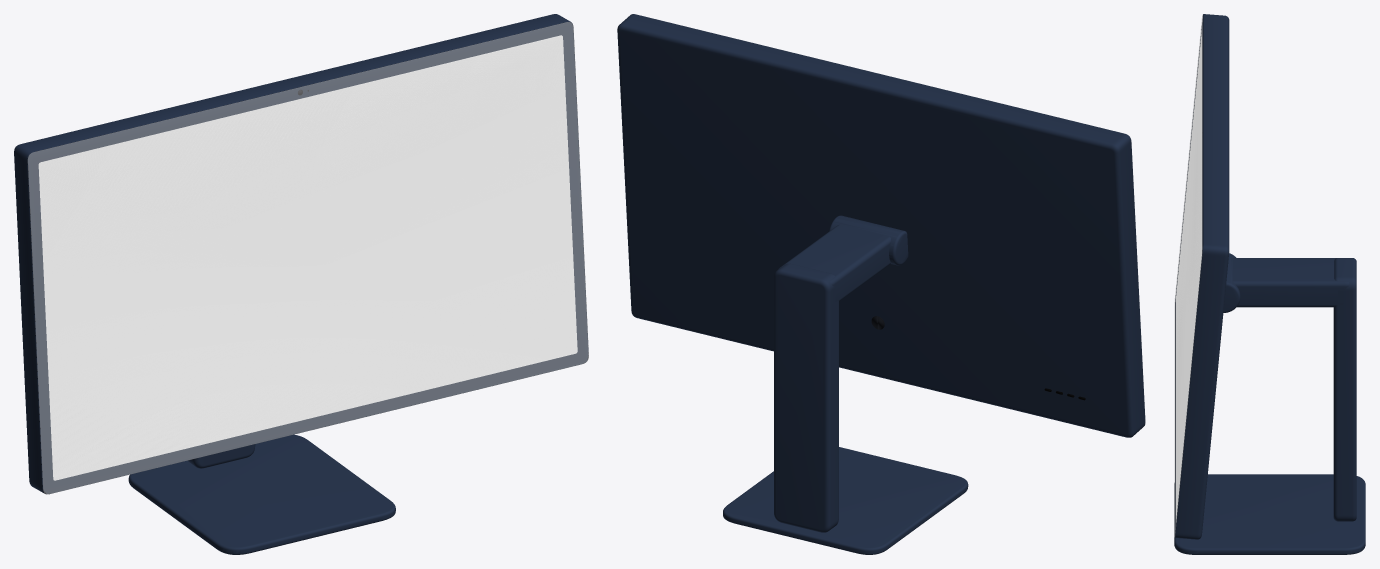
Rendered from studio-display.glb.
The picture shows the model from 3 angles, left to right: view 1: azimuth 30°, elevation 25°; view 2: azimuth 150°, elevation 25°; view 3: azimuth 270°, elevation 25°; orthographic projection. The views are drawn at different scales.
Visible parts, largest first — view 1: Verre_avant, Ecran, Panneau_alu, Pied_base, Pied_colonne; view 2: Panneau_alu, Pied_colonne, Pied_base, Pied_bras, Pied_charniere; view 3: Panneau_alu, Pied_base, Verre_avant, Pied_colonne, Ecran, Pied_bras, Pied_charniere.
Boxes of the visible parts, x1=… form: Verre_avant: x1=28, y1=22, x2=588, y2=493; Ecran: x1=38, y1=35, x2=577, y2=480; Panneau_alu: x1=14, y1=14, x2=588, y2=494; Pied_base: x1=128, y1=434, x2=395, y2=554; Pied_colonne: x1=188, y1=444, x2=255, y2=468; Panneau_alu: x1=617, y1=14, x2=1145, y2=437; Pied_colonne: x1=774, y1=263, x2=838, y2=532; Pied_base: x1=723, y1=447, x2=968, y2=554; Pied_bras: x1=778, y1=224, x2=890, y2=302; Pied_charniere: x1=828, y1=215, x2=908, y2=265; Panneau_alu: x1=1175, y1=14, x2=1229, y2=539; Pied_base: x1=1174, y1=474, x2=1365, y2=554; Verre_avant: x1=1174, y1=14, x2=1202, y2=536; Pied_colonne: x1=1333, y1=258, x2=1356, y2=521; Ecran: x1=1176, y1=31, x2=1201, y2=521; Pied_bras: x1=1232, y1=258, x2=1349, y2=307; Pied_charniere: x1=1223, y1=253, x2=1240, y2=312.
Bounding box in the file's own units: 623 × 479 × 214.
